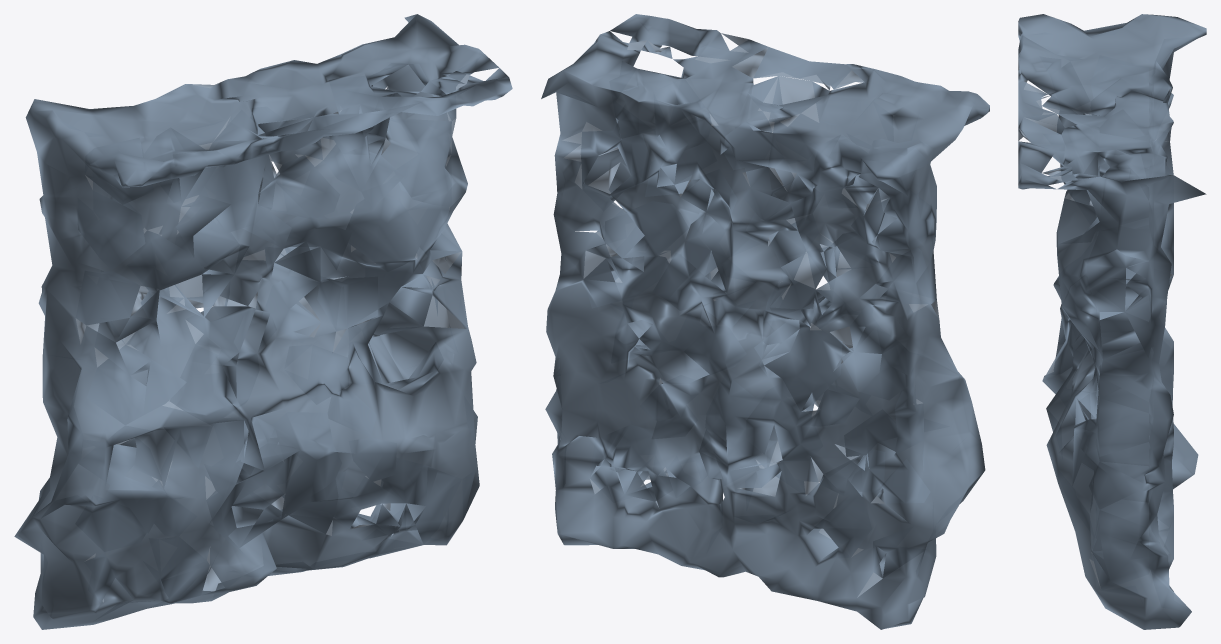
File: sample_90_orig.obj
3 renders of one model, left to right at view 1: azimuth 30°, elevation 25°; view 2: azimuth 150°, elevation 25°; view 3: azimuth 270°, elevation 25°, orthographic. The views are drawn at different scales.
Size of the model in its own units: 1.39 by 1.5 by 0.5629.
